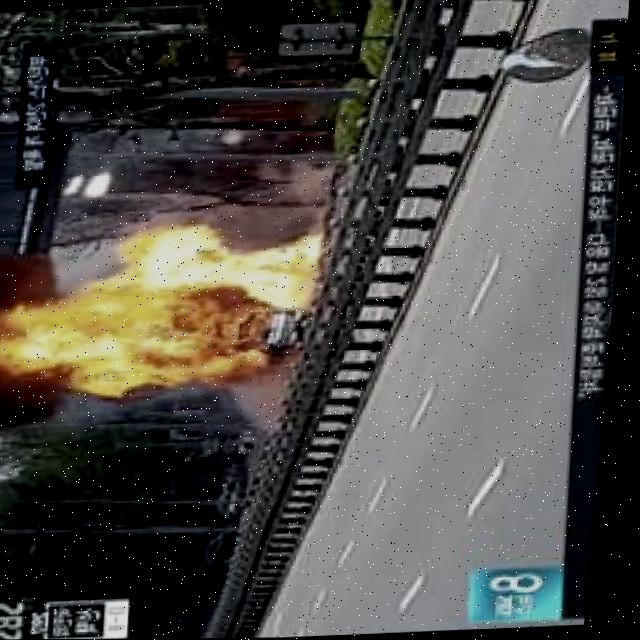Fire: (96, 223, 329, 387), (0, 292, 96, 380)
